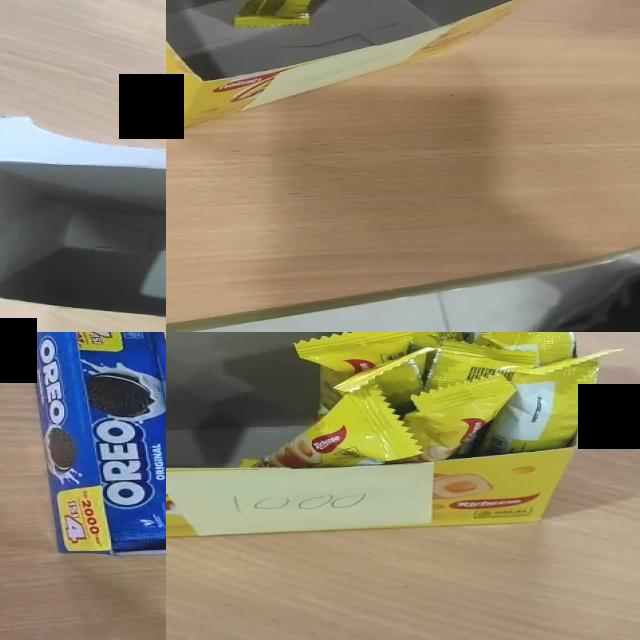Ahh: (472, 348, 624, 456), (249, 384, 423, 468), (394, 372, 518, 462), (293, 332, 411, 415), (332, 346, 438, 416), (422, 339, 538, 391), (475, 332, 581, 368), (371, 332, 470, 348), (462, 332, 550, 343)
Oreo: (70, 332, 166, 552)
